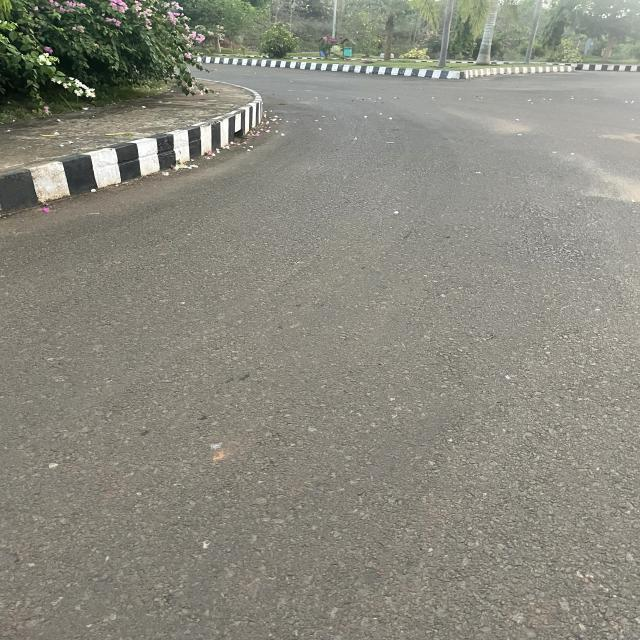D43: (456, 106, 640, 216)
